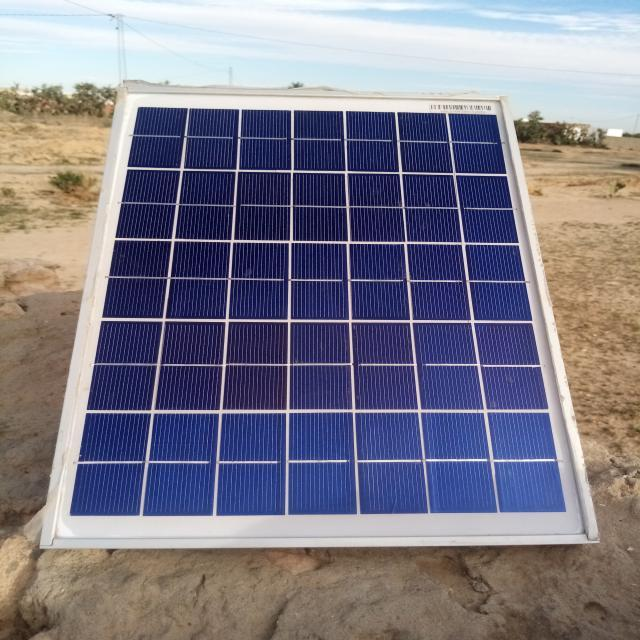no faulty: (47, 86, 597, 545)
